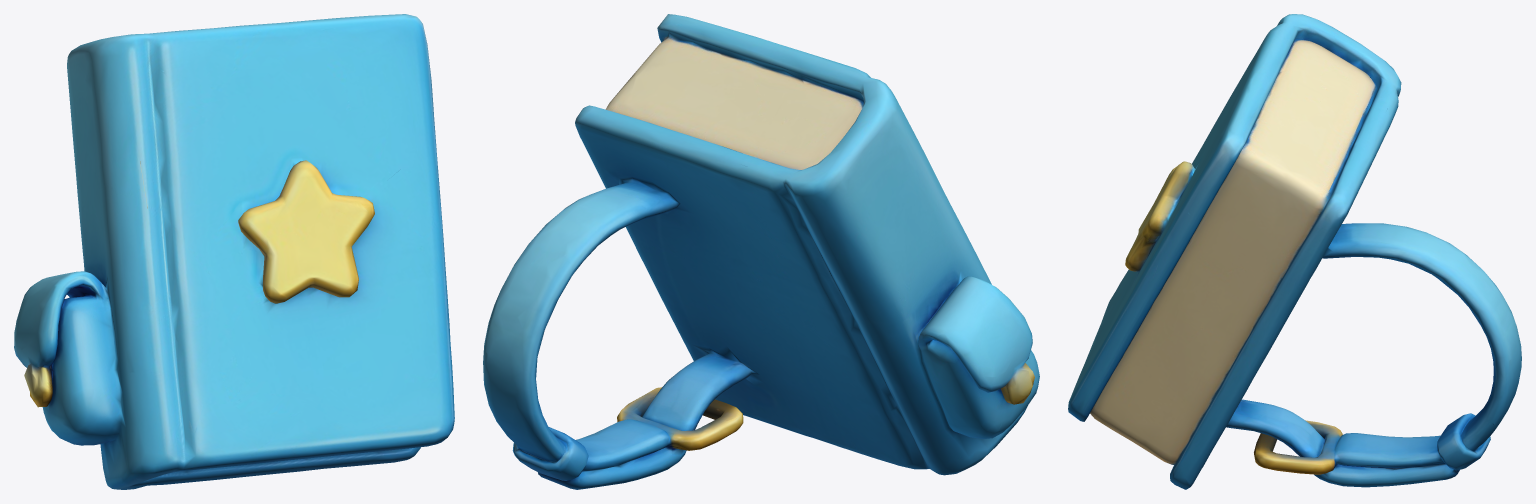
Rendered from bp-book.glb.
3 renders of one model, left to right at view 1: azimuth 30°, elevation 25°; view 2: azimuth 150°, elevation 25°; view 3: azimuth 270°, elevation 25°, orthographic. The views are drawn at different scales.
Visible parts, largest first — view 1: tripo_node_a114fd03-c7ef-4081-bc2e-b76dd66870fa; view 2: tripo_node_a114fd03-c7ef-4081-bc2e-b76dd66870fa; view 3: tripo_node_a114fd03-c7ef-4081-bc2e-b76dd66870fa.
Part boxes in pixels (box(x1,y1,x2,y2)): tripo_node_a114fd03-c7ef-4081-bc2e-b76dd66870fa: box(14, 14, 454, 489); tripo_node_a114fd03-c7ef-4081-bc2e-b76dd66870fa: box(483, 14, 1039, 489); tripo_node_a114fd03-c7ef-4081-bc2e-b76dd66870fa: box(1068, 14, 1521, 489).
Bounding box in the file's own units: 0.9241 × 0.9262 × 1.
Materials: 1 (1 with a texture image).
